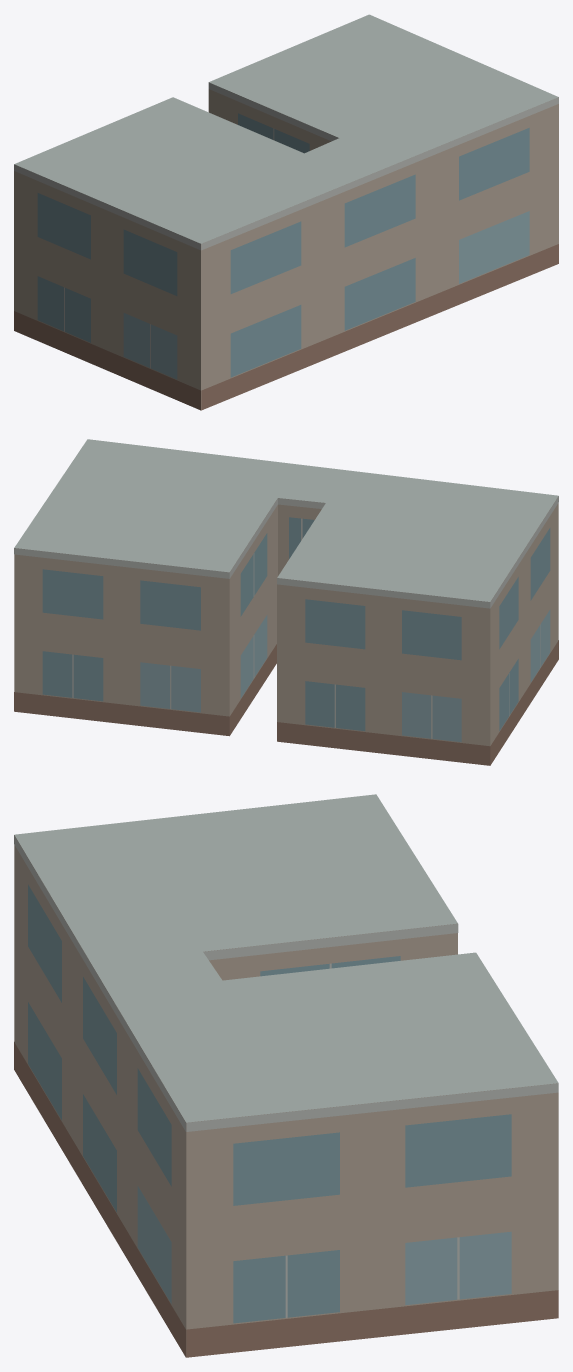
File: survey-upis-32712872.glb
The picture shows the model from 3 angles, top to bottom: view 1: azimuth 30°, elevation 25°; view 2: azimuth 150°, elevation 25°; view 3: azimuth 270°, elevation 25°; orthographic projection. The views are drawn at different scales.
Visible parts, largest first — view 1: survey-upis-32712872.tmp; view 2: survey-upis-32712872.tmp; view 3: survey-upis-32712872.tmp.
Boxes of the visible parts, x1,y1,x2,y2 form: survey-upis-32712872.tmp: [14, 14, 558, 410]; survey-upis-32712872.tmp: [14, 439, 558, 765]; survey-upis-32712872.tmp: [14, 794, 558, 1357].
Bounding box in the file's own units: 18.3 × 6.1 × 12.82.
